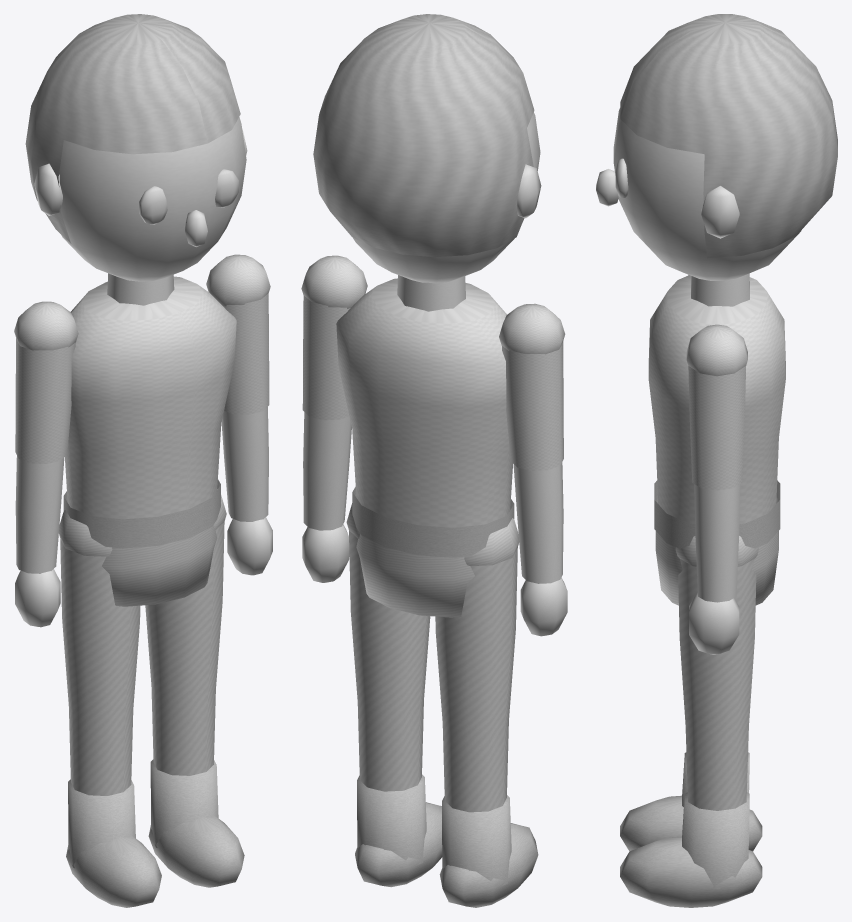
File: char_base_b.glb
3 renders of one model, left to right at view 1: azimuth 30°, elevation 25°; view 2: azimuth 150°, elevation 25°; view 3: azimuth 270°, elevation 25°, orthographic. The views are drawn at different scales.
Parts seen in each view (by area): view 1: core, leg_r, leg_l, arm_r, arm_l; view 2: core, leg_r, leg_l, arm_r, arm_l; view 3: core, leg_l, arm_l, leg_r.
Boxes of the visible parts, x1=… form: core: x1=25, y1=14, x2=247, y2=606; leg_r: x1=59, y1=510, x2=161, y2=907; leg_l: x1=145, y1=489, x2=244, y2=887; arm_r: x1=14, y1=301, x2=78, y2=627; arm_l: x1=206, y1=254, x2=272, y2=575; core: x1=313, y1=14, x2=541, y2=617; leg_r: x1=435, y1=518, x2=538, y2=907; leg_l: x1=346, y1=503, x2=442, y2=887; arm_r: x1=499, y1=303, x2=567, y2=636; arm_l: x1=301, y1=255, x2=367, y2=582; core: x1=596, y1=14, x2=837, y2=605; leg_l: x1=620, y1=536, x2=762, y2=907; arm_l: x1=686, y1=324, x2=747, y2=654; leg_r: x1=620, y1=752, x2=762, y2=851.
Bounding box in the file's own units: 0.4455 × 1.46 × 0.3712.
Materials: 6 (6 with a texture image).
